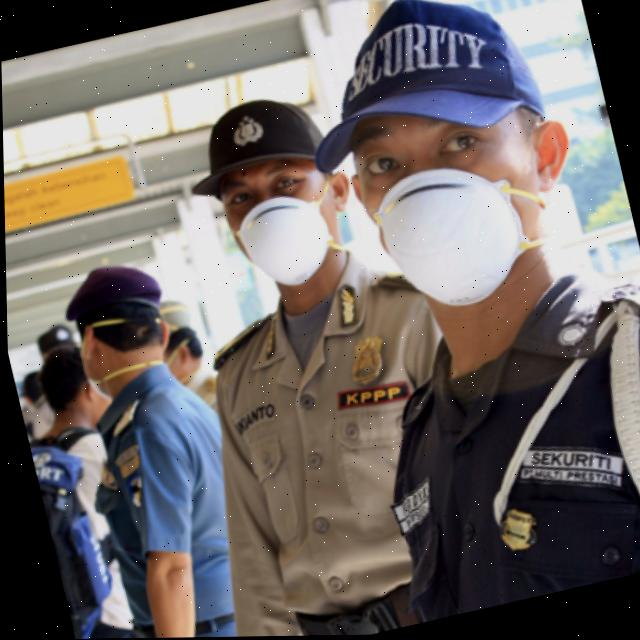Mask: (344, 118, 599, 325), (218, 171, 365, 300)
